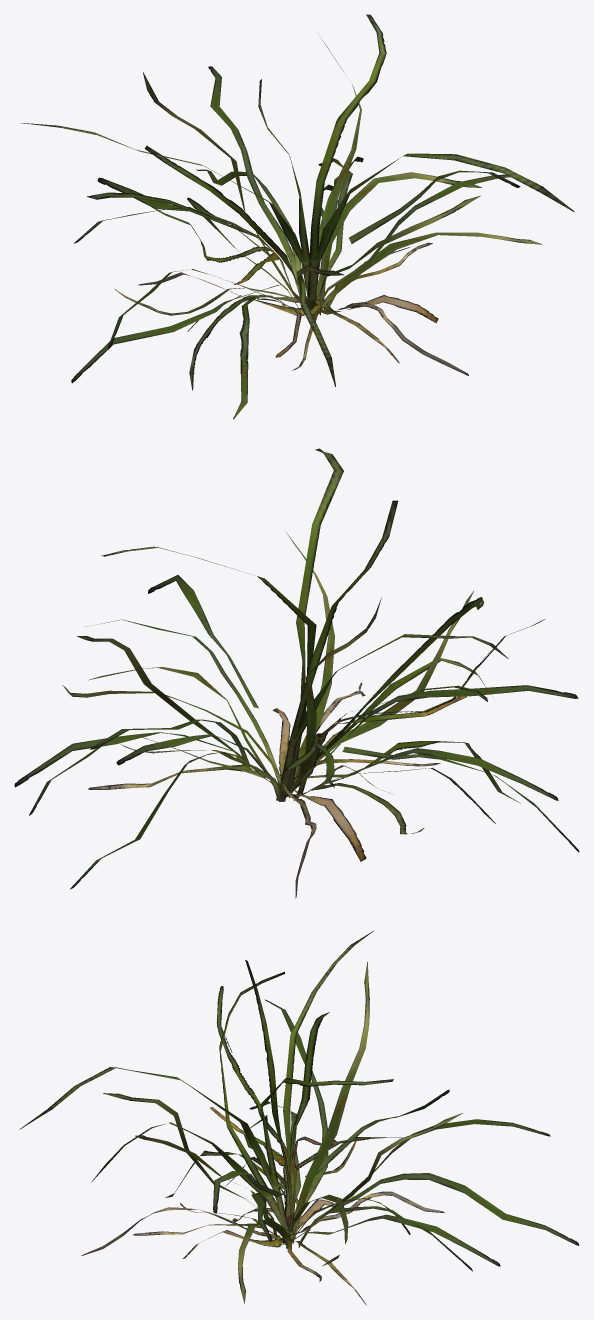
Rendered from grass_small_b.gltf.
3 views of the same model, one above another, from view 1: azimuth 30°, elevation 25°; view 2: azimuth 150°, elevation 25°; view 3: azimuth 270°, elevation 25° (orthographic). The views are drawn at different scales.
Parts seen in each view (by area): view 1: grass_medium_01_small_b_LOD0; view 2: grass_medium_01_small_b_LOD0; view 3: grass_medium_01_small_b_LOD0.
Boxes of the visible parts, x1=… form: grass_medium_01_small_b_LOD0: x1=21, y1=14, x2=574, y2=419; grass_medium_01_small_b_LOD0: x1=14, y1=448, x2=579, y2=898; grass_medium_01_small_b_LOD0: x1=19, y1=931, x2=579, y2=1305.
Size of the model in its own units: 0.166 by 0.0999 by 0.1899.
1 material, 1 textured.
